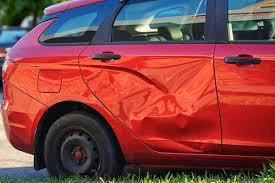dent: (115, 102, 218, 155)
